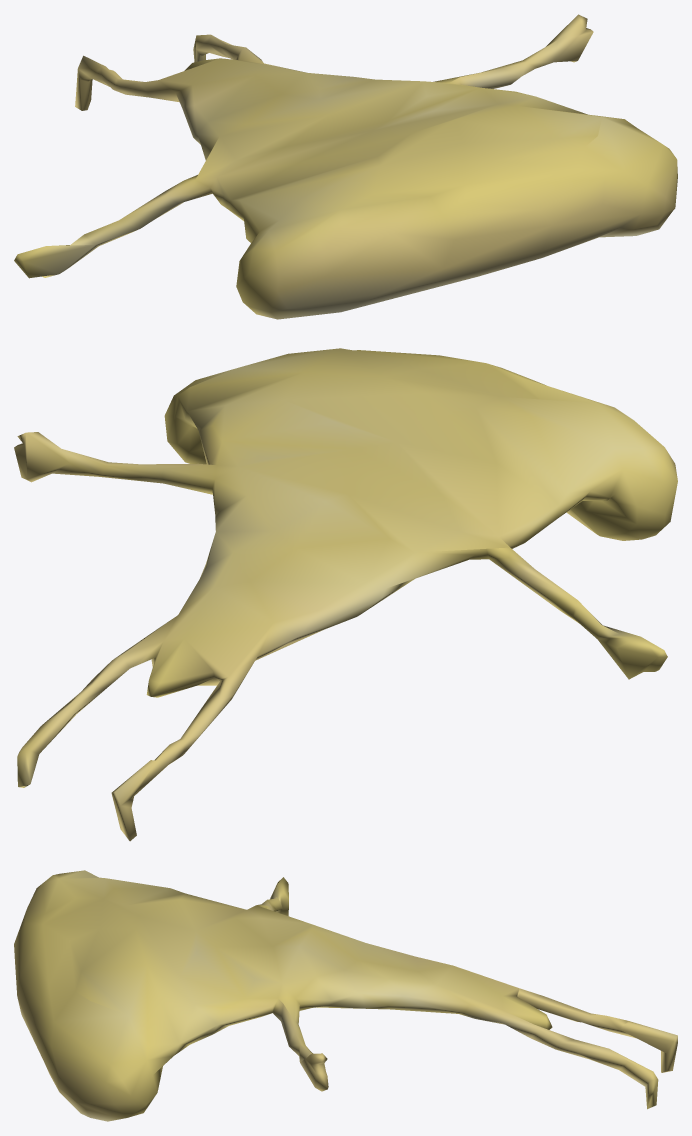
3 views of the same model, one above another, from view 1: azimuth 30°, elevation 25°; view 2: azimuth 150°, elevation 25°; view 3: azimuth 270°, elevation 25° (orthographic). The views are drawn at different scales.
Parts seen in each view (by area): view 1: LOD 4_12217630209747545319_820756dedd5b3434c8e6bed8ae6a193b; view 2: LOD 4_12217630209747545319_820756dedd5b3434c8e6bed8ae6a193b; view 3: LOD 4_12217630209747545319_820756dedd5b3434c8e6bed8ae6a193b.
Boxes of the visible parts, x1,y1,x2,y2 form: LOD 4_12217630209747545319_820756dedd5b3434c8e6bed8ae6a193b: (14,14,677,319); LOD 4_12217630209747545319_820756dedd5b3434c8e6bed8ae6a193b: (14,348,677,841); LOD 4_12217630209747545319_820756dedd5b3434c8e6bed8ae6a193b: (14,870,677,1121).
Size of the model in its own units: 5.09 by 1.6 by 5.65.
